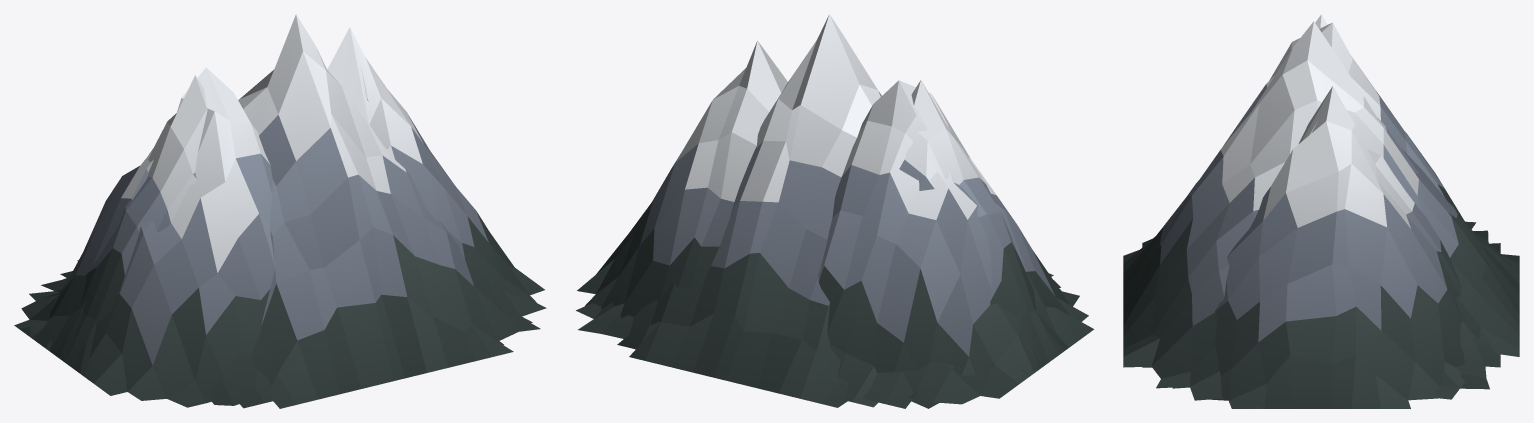
File: cheongsan2.glb
3 views of the same model, side by side, from view 1: azimuth 30°, elevation 25°; view 2: azimuth 150°, elevation 25°; view 3: azimuth 270°, elevation 25° (orthographic). The views are drawn at different scales.
Visible parts, largest first — view 1: cs_mount_a, cs_mount_c, cs_mount_b; view 2: cs_mount_c, cs_mount_a, cs_mount_b; view 3: cs_mount_c, cs_mount_a.
Part boxes in pixels (bbox=[...]): cs_mount_a: bbox=[14, 14, 546, 408]; cs_mount_c: bbox=[19, 27, 544, 408]; cs_mount_b: bbox=[55, 66, 368, 376]; cs_mount_c: bbox=[577, 40, 1094, 408]; cs_mount_a: bbox=[576, 14, 1060, 408]; cs_mount_b: bbox=[899, 80, 1068, 369]; cs_mount_c: bbox=[1142, 22, 1500, 408]; cs_mount_a: bbox=[1123, 21, 1519, 408].
Size of the model in its own units: 260 by 169 by 210.
